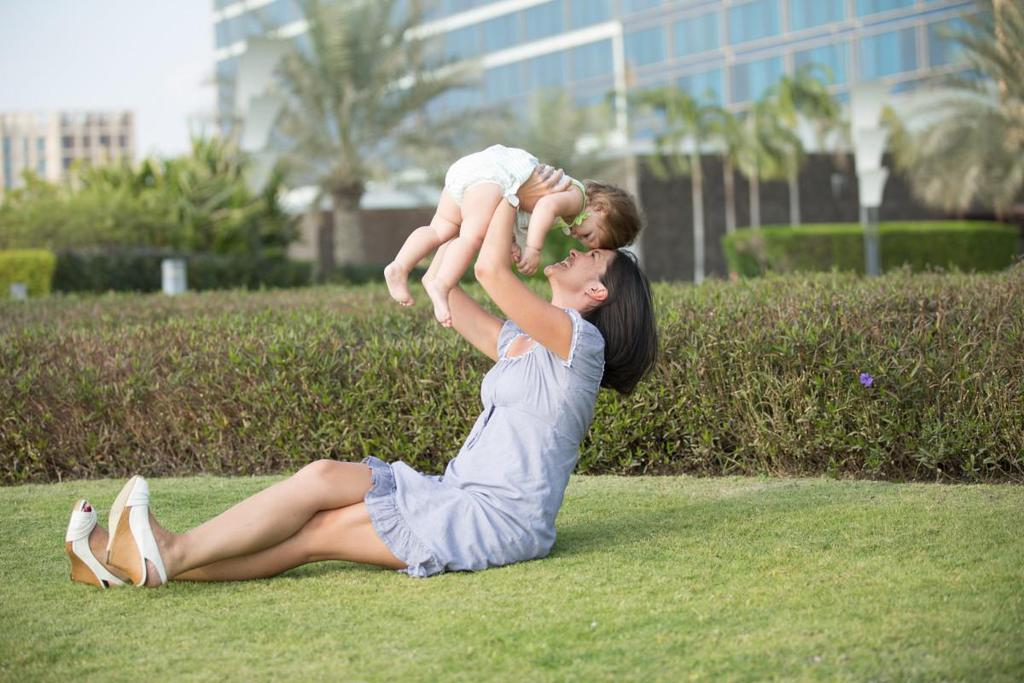child: (376, 119, 636, 312)
